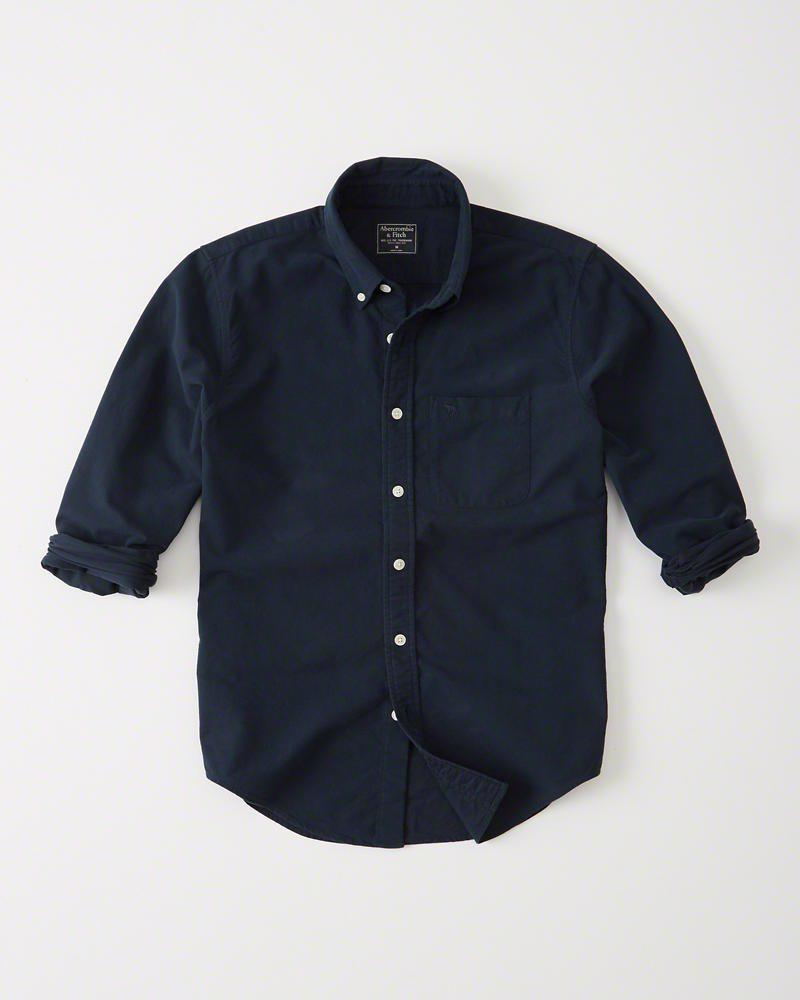teeshirt: (35, 151, 776, 856)
